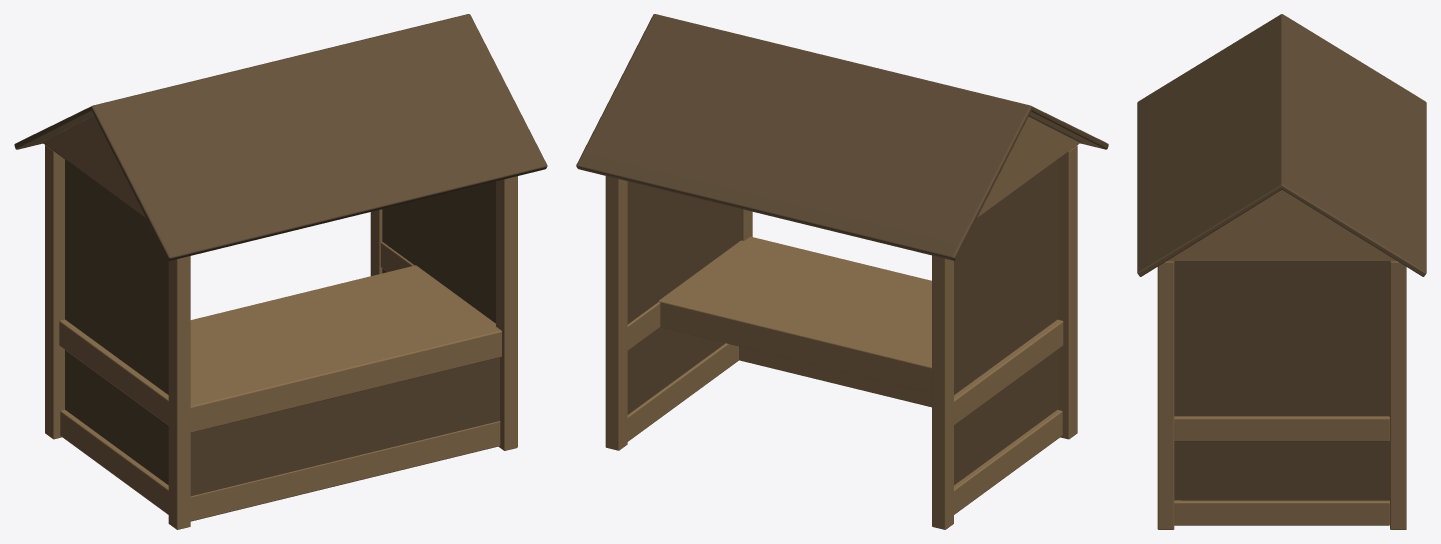
File: marketstand2 1.fbx
The picture shows the model from 3 angles, left to right: view 1: azimuth 30°, elevation 25°; view 2: azimuth 150°, elevation 25°; view 3: azimuth 270°, elevation 25°; orthographic projection. The views are drawn at different scales.
Parts seen in each view (by area): view 1: Plane, Cube.013, Cube.003, Cube, Cube.002, Cube.001; view 2: Plane, Cube.013, Cube.003, Cube.002, Cube.001; view 3: Plane, Cube.001, Cube.013, Cube.002.
Part boxes in pixels (left/top/right/bottom): Plane: left=14, top=14, right=547, bottom=260; Cube.013: left=59, top=242, right=501, bottom=521; Cube.003: left=65, top=159, right=168, bottom=484; Cube: left=190, top=357, right=499, bottom=496; Cube.002: left=45, top=145, right=517, bottom=529; Cube.001: left=382, top=181, right=495, bottom=323; Plane: left=576, top=14, right=1108, bottom=260; Cube.013: left=627, top=236, right=1063, bottom=514; Cube.003: left=954, top=160, right=1057, bottom=485; Cube.002: left=605, top=145, right=1077, bottom=529; Cube.001: left=627, top=181, right=741, bottom=414; Plane: left=1137, top=14, right=1426, bottom=276; Cube.001: left=1174, top=261, right=1389, bottom=500; Cube.013: left=1174, top=416, right=1389, bottom=525; Cube.002: left=1157, top=261, right=1406, bottom=529.
Bounding box in the file's own units: 340 × 326 × 242.
